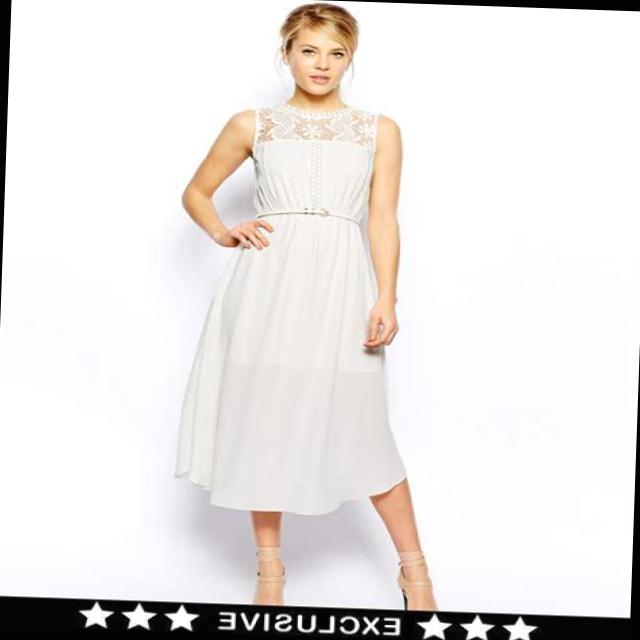dress: (173, 97, 422, 520)
